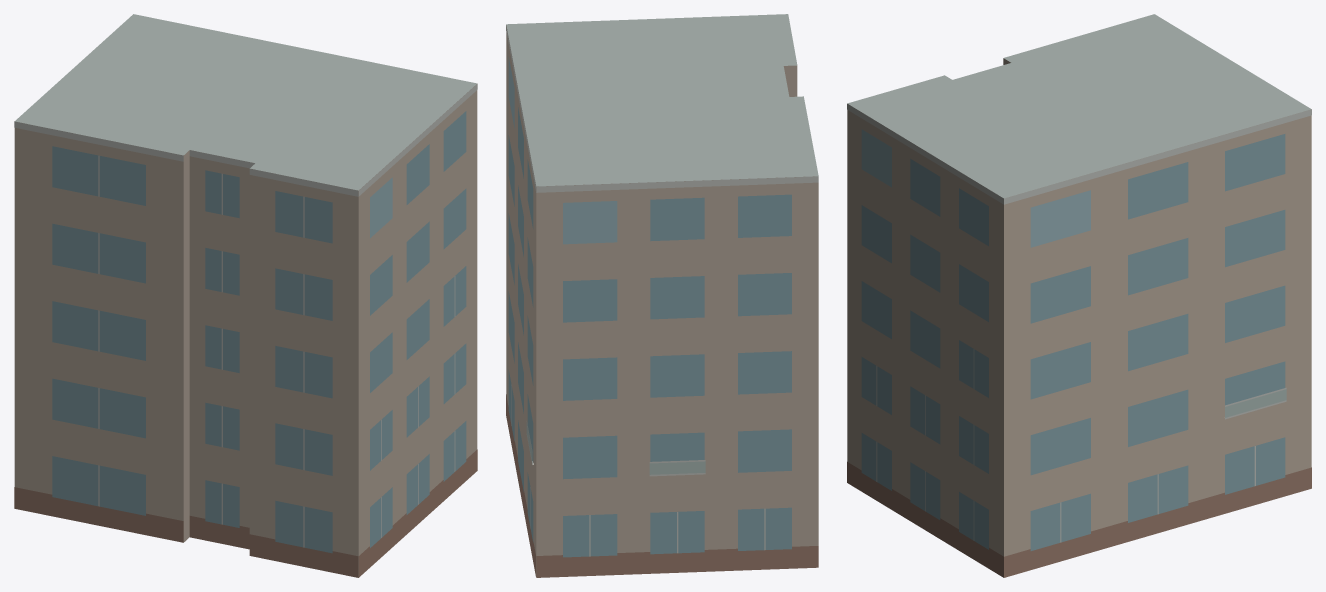
File: survey-upis-32851492.glb
3 renders of one model, left to right at view 1: azimuth 30°, elevation 25°; view 2: azimuth 150°, elevation 25°; view 3: azimuth 270°, elevation 25°, orthographic. The views are drawn at different scales.
Parts seen in each view (by area): view 1: survey-upis-32851492.tmp; view 2: survey-upis-32851492.tmp; view 3: survey-upis-32851492.tmp.
Part boxes in pixels (x1,y1,x2,y2): survey-upis-32851492.tmp: (14,14,477,577); survey-upis-32851492.tmp: (506,14,818,577); survey-upis-32851492.tmp: (847,14,1311,577).
Bounding box in the file's own units: 15.66 × 15 × 16.66.
